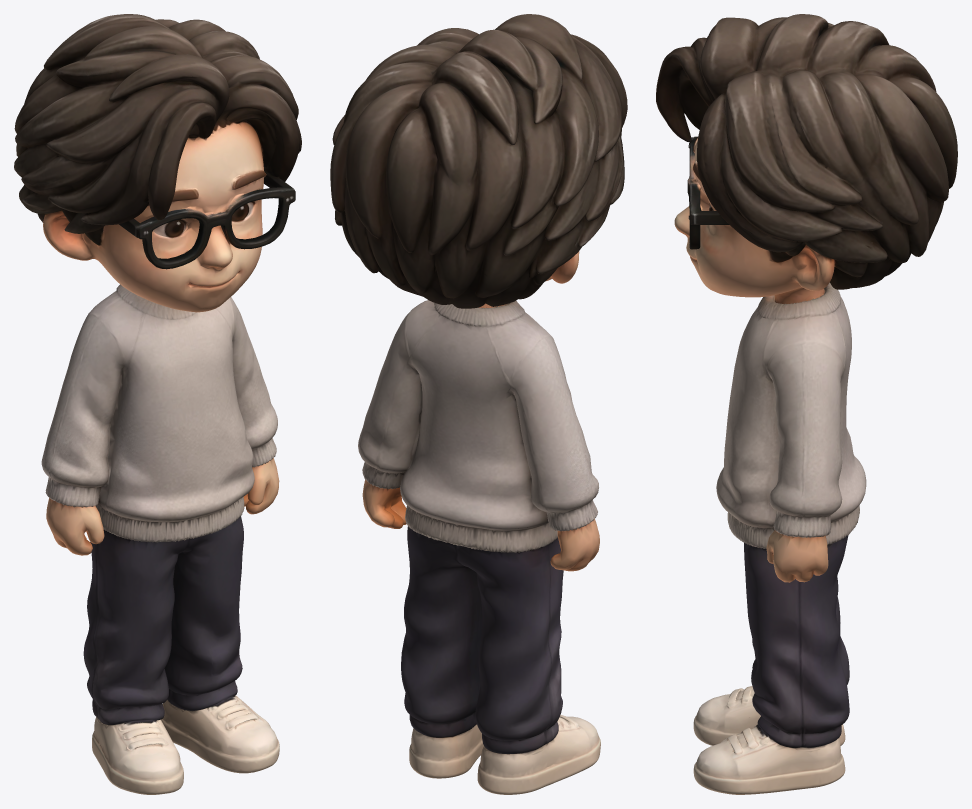
File: avatar_daily.glb
3 renders of one model, left to right at view 1: azimuth 30°, elevation 25°; view 2: azimuth 150°, elevation 25°; view 3: azimuth 270°, elevation 25°, orthographic.
Visible parts, largest first — view 1: tripo_node_6075cef2-7189-4dfb-badb-74becea681ec; view 2: tripo_node_6075cef2-7189-4dfb-badb-74becea681ec; view 3: tripo_node_6075cef2-7189-4dfb-badb-74becea681ec.
Boxes of the visible parts, bbox=[...] form: tripo_node_6075cef2-7189-4dfb-badb-74becea681ec: bbox=[14, 14, 301, 794]; tripo_node_6075cef2-7189-4dfb-badb-74becea681ec: bbox=[330, 14, 627, 794]; tripo_node_6075cef2-7189-4dfb-badb-74becea681ec: bbox=[656, 14, 957, 794].
Bounding box in the file's own units: 0.3562 × 0.9798 × 0.3664.
Materials: 1 (1 with a texture image).
